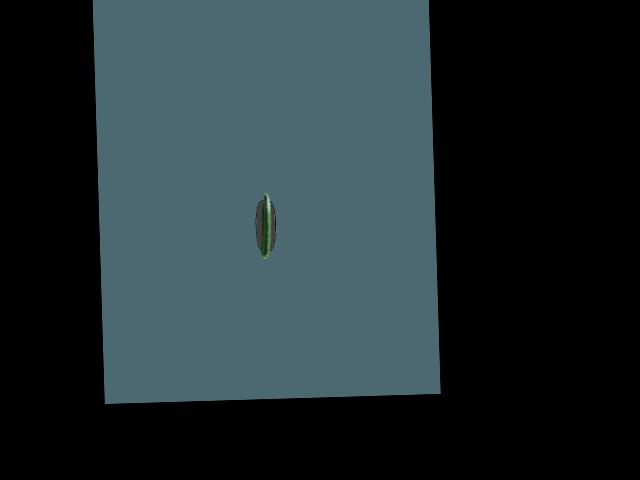cucumber: (259, 192, 271, 259)
